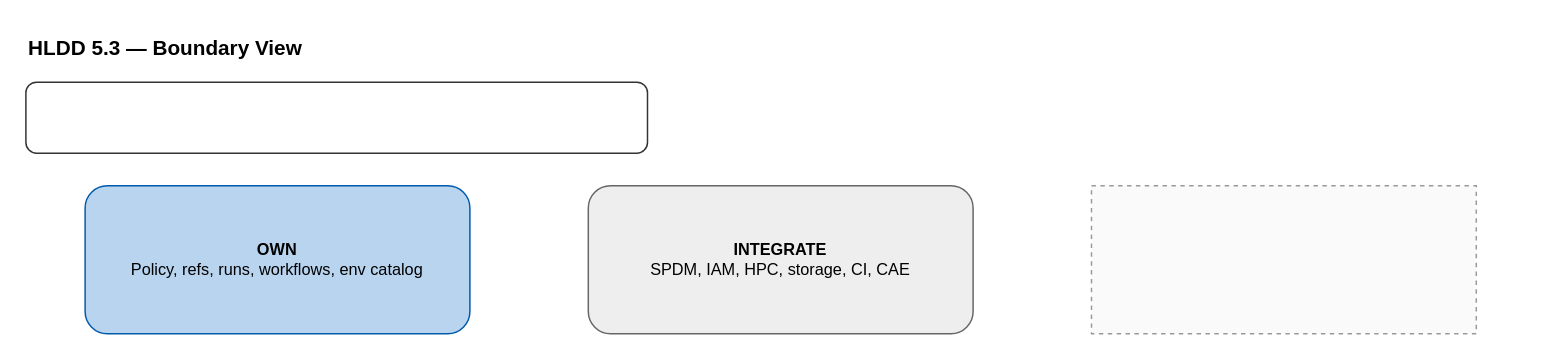
The diagram is 1561 pixels wide and 360 high, and some of its shapes have lost their labels. The centre of each missing label's shape, as x and y in pixels:
"Blue OWN | Grey INTEG | Dashed OUT" belongs at point (336, 117).
"OUT PLM ownership, solver IP, legal, partner IT" belongs at point (1283, 259).
